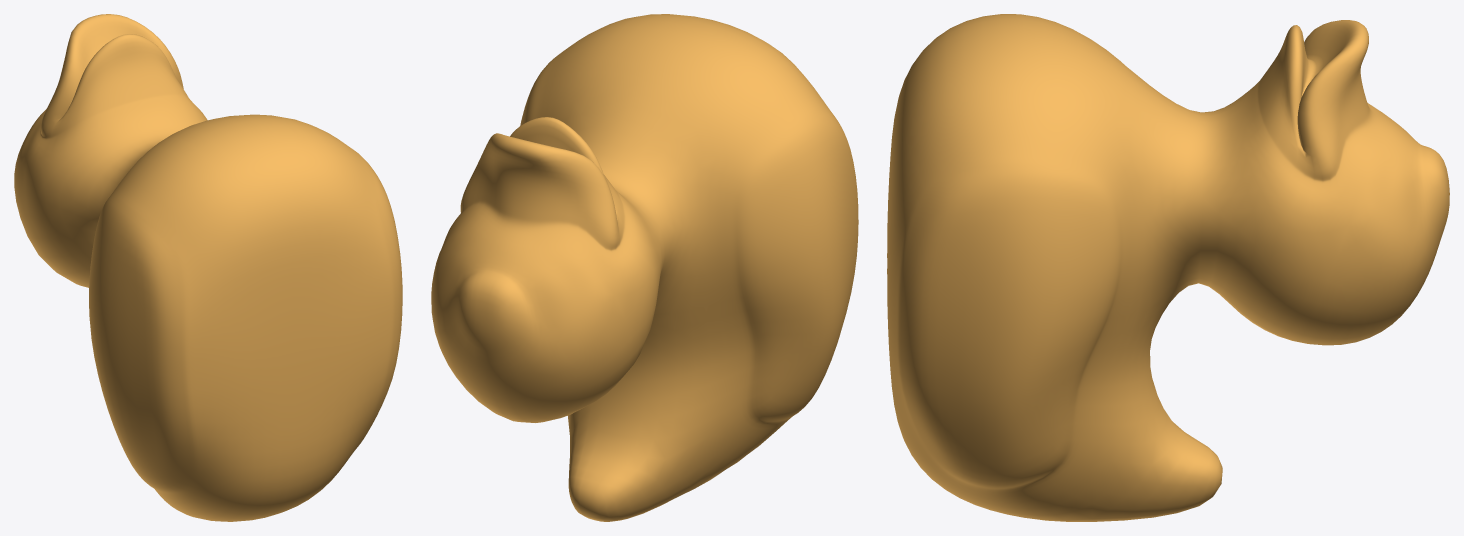
File: VIS_Obj_2_RubberDuck.dae
3 renders of one model, left to right at view 1: azimuth 30°, elevation 25°; view 2: azimuth 150°, elevation 25°; view 3: azimuth 270°, elevation 25°, orthographic. The views are drawn at different scales.
Parts seen in each view (by area): view 1: VIS_Obj_2_RubberDuck; view 2: VIS_Obj_2_RubberDuck; view 3: VIS_Obj_2_RubberDuck.
Boxes of the visible parts, x1,y1,x2,y2 form: VIS_Obj_2_RubberDuck: (14,14,402,521); VIS_Obj_2_RubberDuck: (431,14,858,521); VIS_Obj_2_RubberDuck: (887,14,1449,521).
Bounding box in the file's own units: 2.47 × 3.57 × 3.38.
